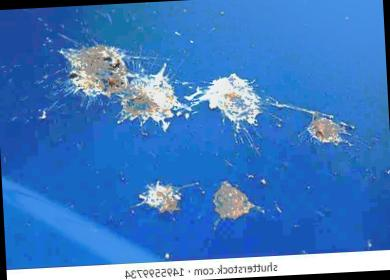Bird Poop: (186, 74, 352, 145), (119, 65, 189, 128), (61, 45, 132, 96), (214, 181, 255, 218), (137, 181, 180, 212)
